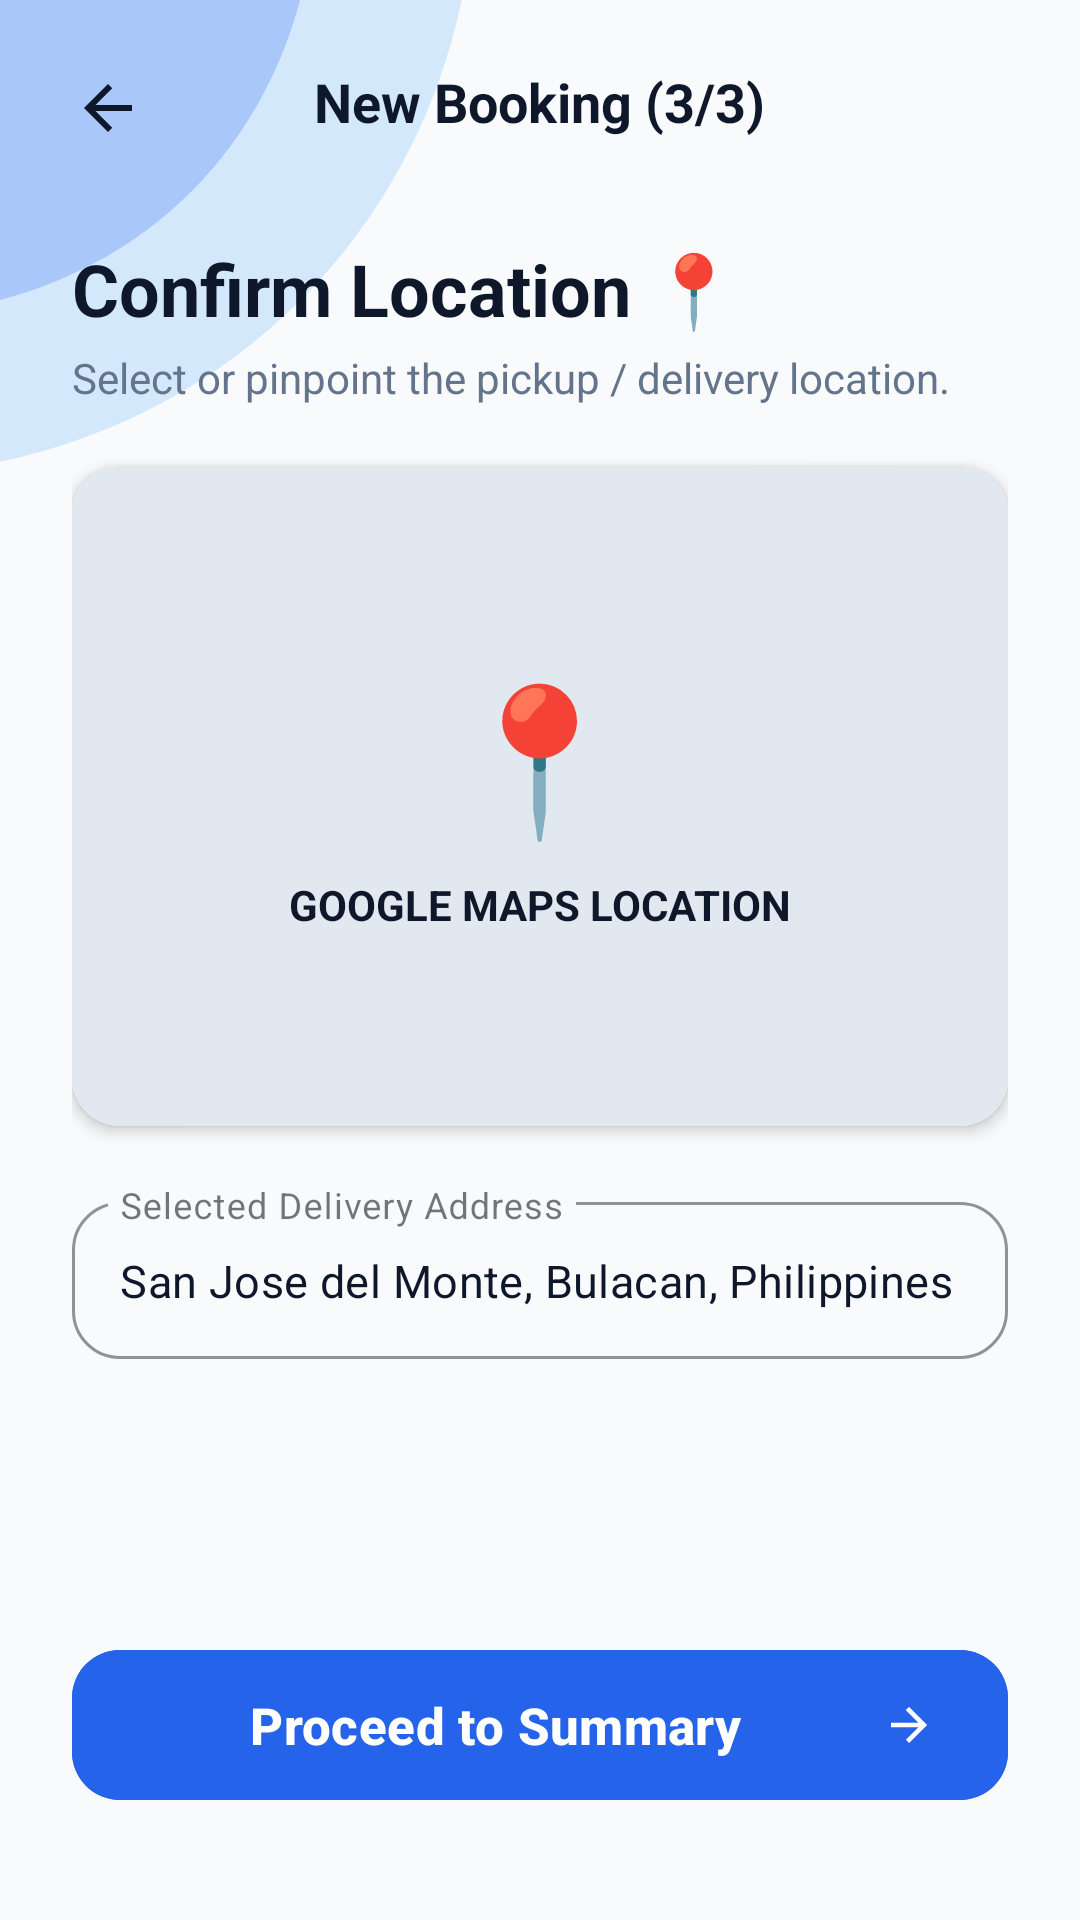

Icons on this 1080px x 1920px Android screen, each with the point to tap as [x,y]:
Back Button: [108,108]
